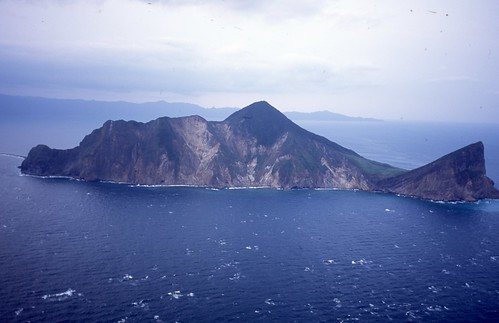turtleIsland: (15, 95, 499, 202)
